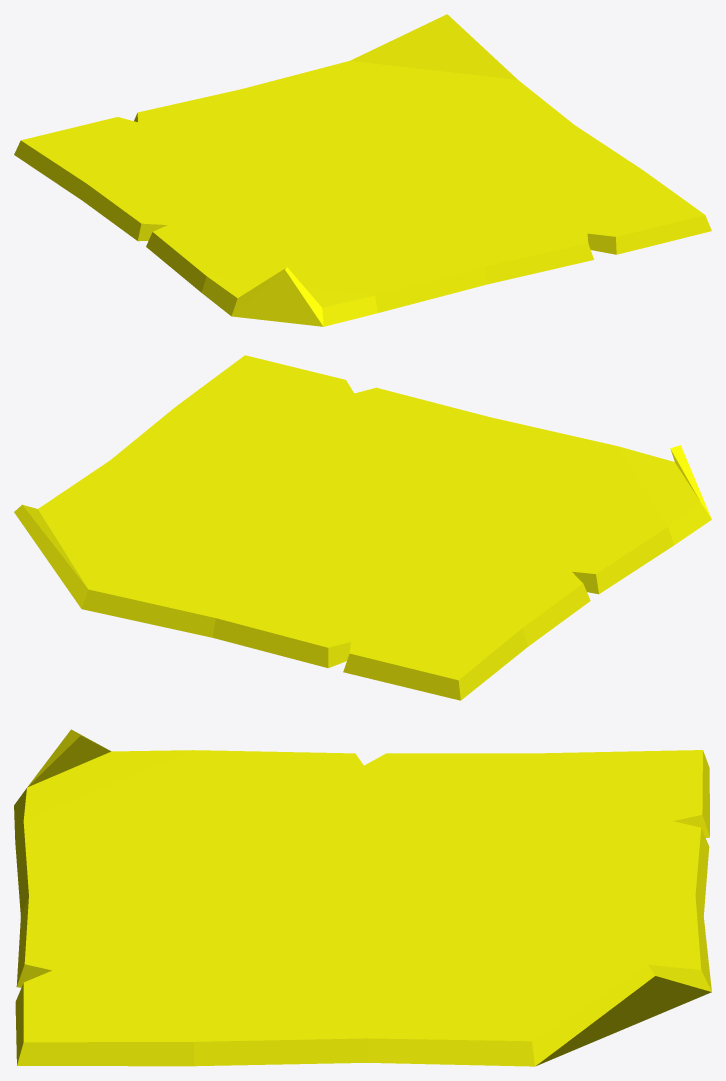
File: kaykit-blueprint.glb
3 views of the same model, one above another, from view 1: azimuth 30°, elevation 25°; view 2: azimuth 150°, elevation 25°; view 3: azimuth 270°, elevation 25° (orthographic). The views are drawn at different scales.
Parts seen in each view (by area): view 1: blueprint; view 2: blueprint; view 3: blueprint.
Boxes of the visible parts, x1,y1,x2,y2 form: blueprint: [14, 14, 711, 326]; blueprint: [14, 355, 711, 700]; blueprint: [14, 729, 711, 1066].
Bounding box in the file's own units: 1.49 × 0.1803 × 1.46.
